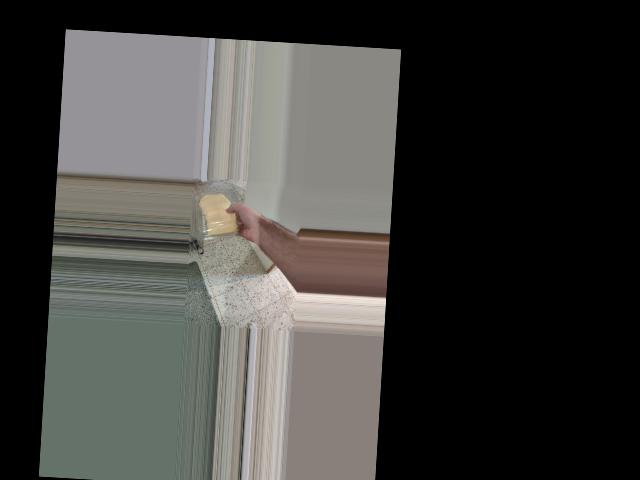cheese: (193, 190, 241, 241)
